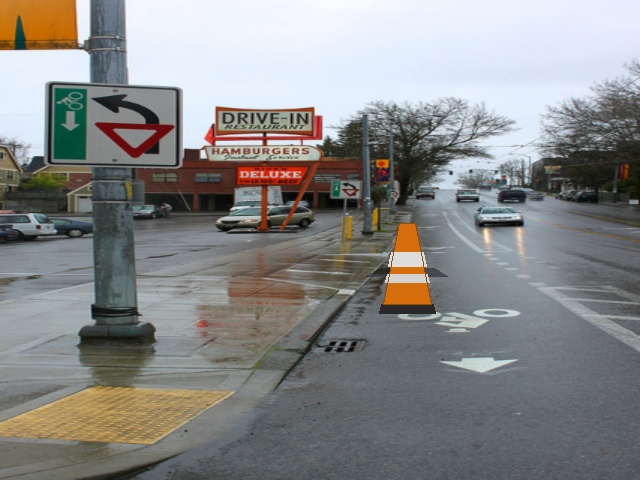traffic-cone: (379, 223, 435, 313)
